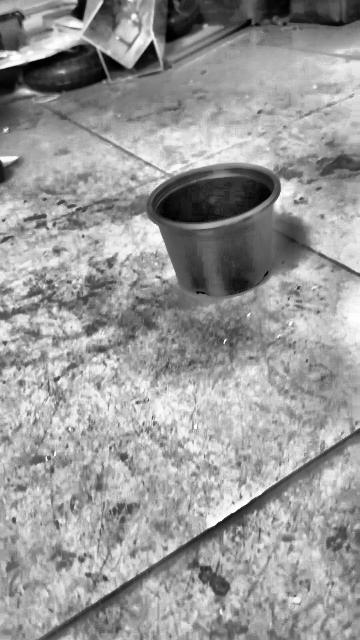pot: (146, 164, 279, 297)
